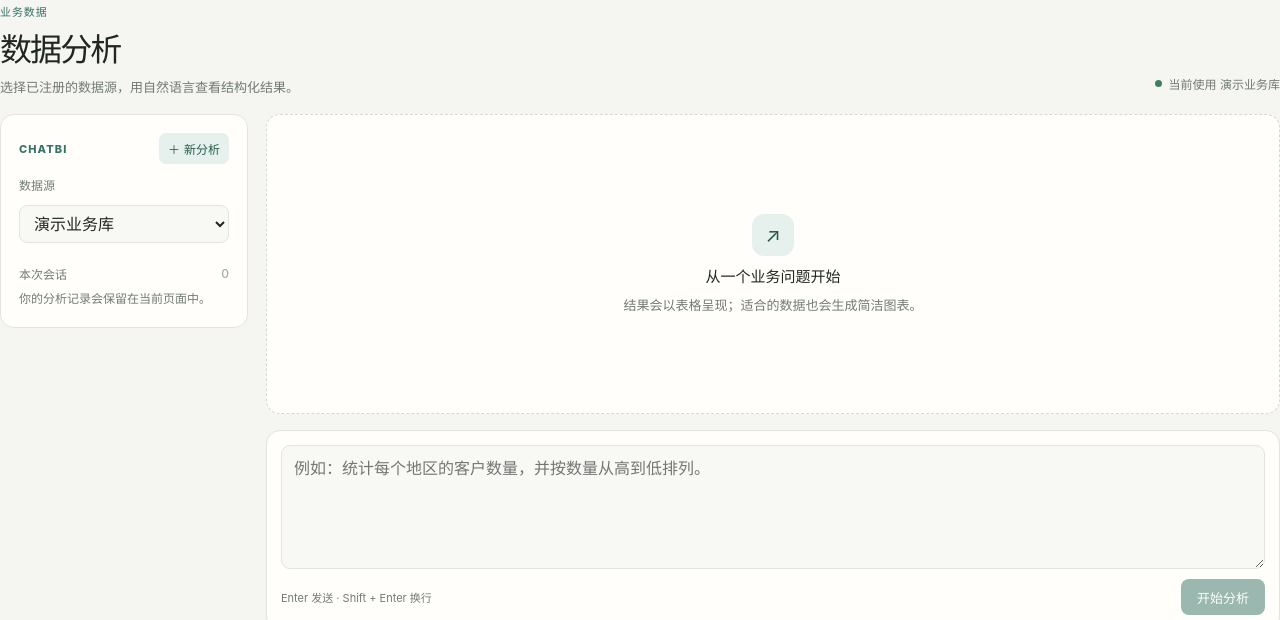
it: AnalysisView › loads a datasource, sends a question, renders table/chart and keeps history local
The image size is (1280, 620).
expect the dropdown labelled "数据源" shows "演示业务库": met, box [19, 205, 229, 243]
Type "统计各地区客户数" into the text box with placeholder "例如：统计每个地区的客户数量，并按数量从高到低排列。" at (773, 507), box [281, 445, 1265, 569]
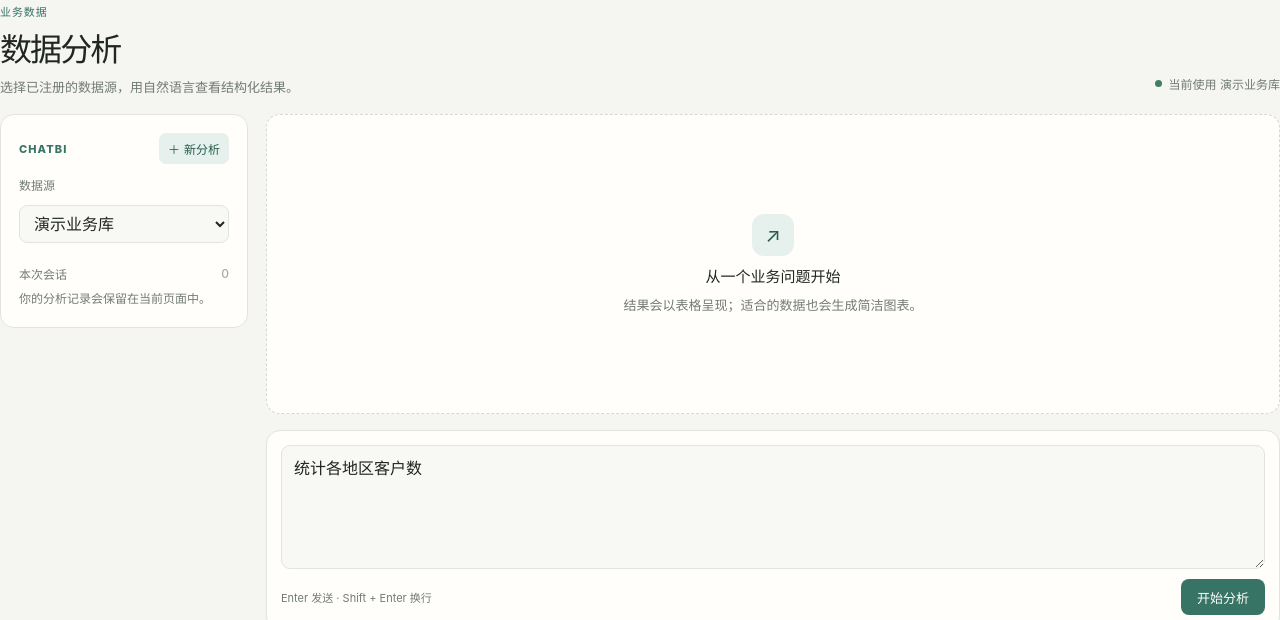
Press Enter in the text box named "分析问题", box [281, 445, 1265, 569]
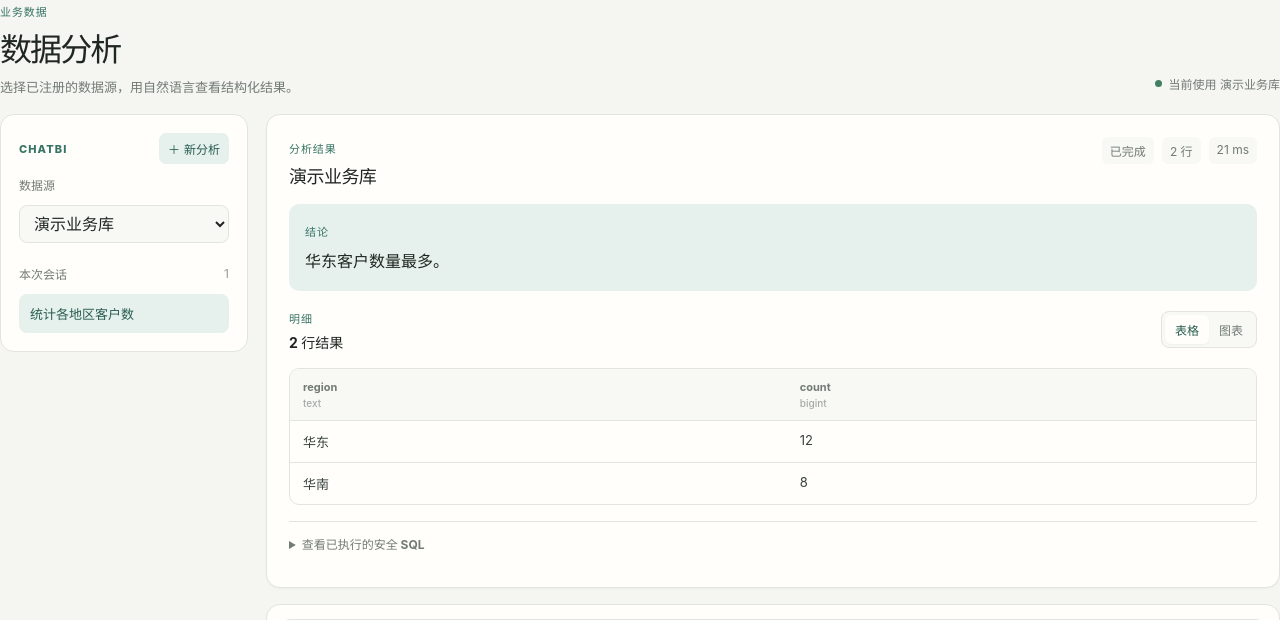
expect the text "华东客户数量最多" is shown: met, box [305, 251, 449, 271]
expect the text "region" is shown: met, box [303, 380, 337, 394]
expect the text "12" is shown: met, box [787, 421, 1256, 463]
Click the tab "图表" at (1231, 330), box [1209, 315, 1253, 344]
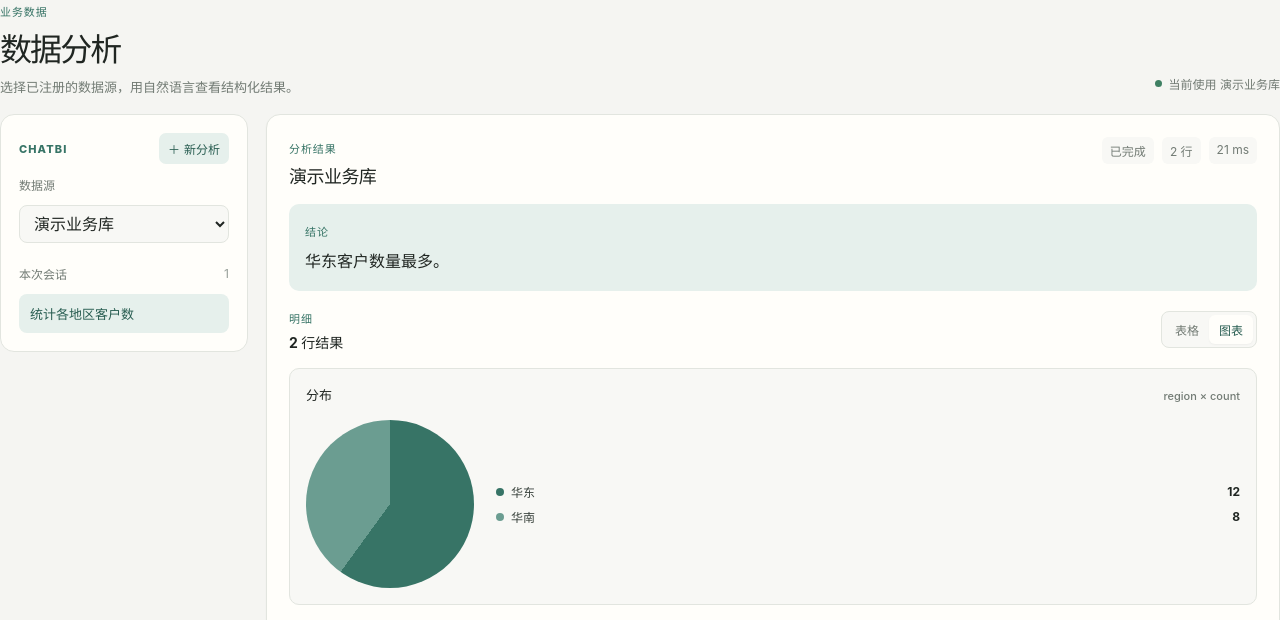
expect the element with class "result-chart" is shown: met, box [289, 368, 1257, 605]
